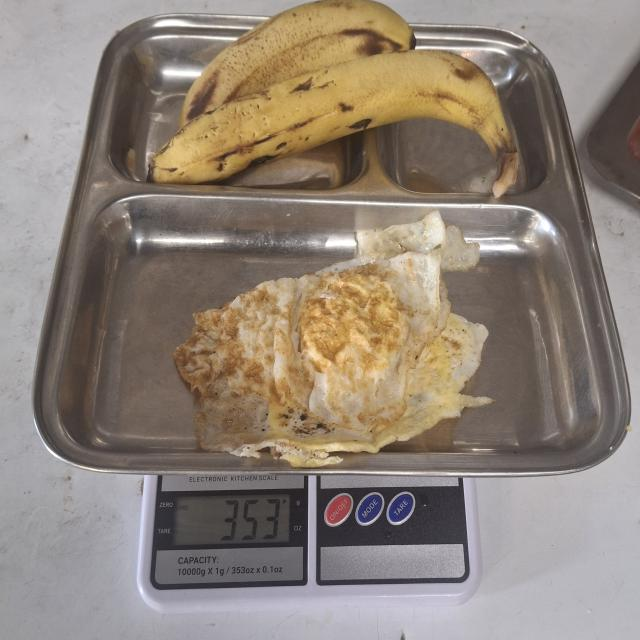Banana: (133, 5, 534, 200)
Omelette: (164, 213, 500, 471)
